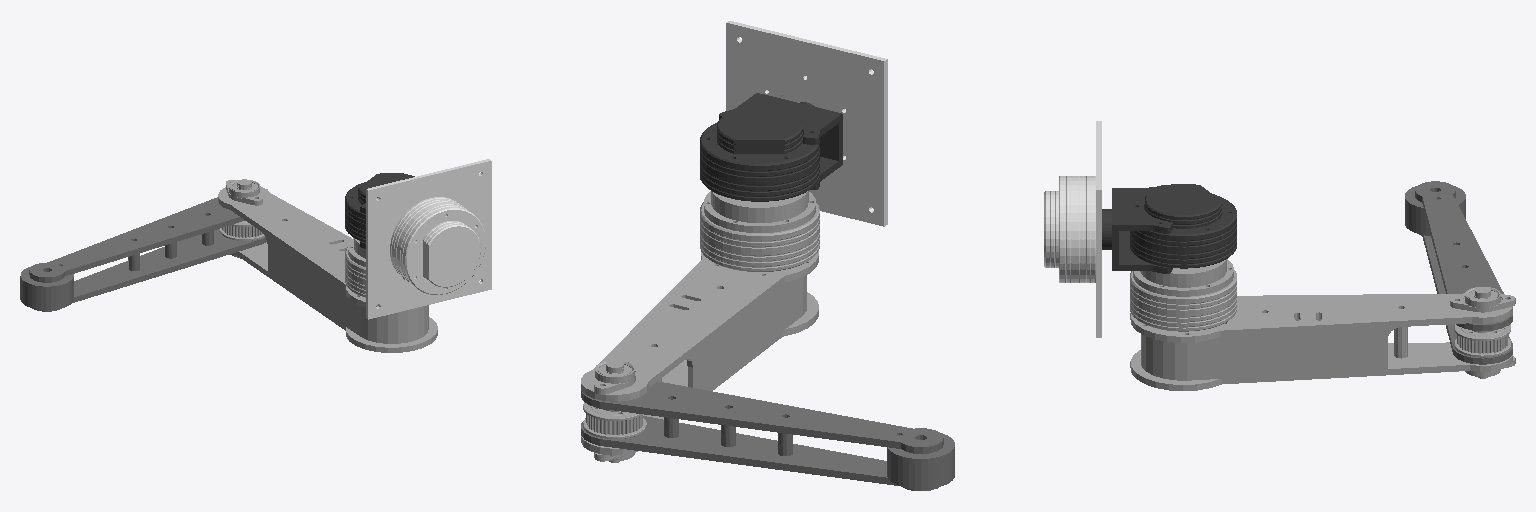
The robot description file, URDF, robot "1.SLDASM":
<?xml version="1.0" encoding="utf-8"?>
<!-- This URDF was automatically created by SolidWorks to URDF Exporter! Originally created by Stephen Brawner (brawner@gmail.com) 
     Commit Version: 1.6.0-4-g7f85cfe  Build Version: 1.6.7995.38578
     For more information, please see http://wiki.ros.org/sw_urdf_exporter -->
<robot
  name="1.SLDASM">
  <link
    name="base_link">
    <inertial>
      <origin
        xyz="0.00017262 -0.012487 1.249E-16"
        rpy="0 0 0" />
      <mass
        value="0.18526" />
      <inertia
        ixx="0.00013682"
        ixy="4.7664E-07"
        ixz="-5.5693E-18"
        iyy="0.00024336"
        iyz="-4.793E-18"
        izz="0.00013608" />
    </inertial>
    <visual>
      <origin
        xyz="0 0 0"
        rpy="0 0 0" />
      <geometry>
        <mesh
          filename="package://1.SLDASM/meshes/base_link.STL" />
      </geometry>
      <material
        name="">
        <color
          rgba="0.9 0.9 0.9 1" />
      </material>
    </visual>
    <collision>
      <origin
        xyz="0 0 0"
        rpy="0 0 0" />
      <geometry>
        <mesh
          filename="package://1.SLDASM/meshes/base_link.STL" />
      </geometry>
    </collision>
  </link>
  <link
    name="link_1">
    <inertial>
      <origin
        xyz="3.7763E-05 0.0551 0.0032112"
        rpy="0 0 0" />
      <mass
        value="0.17061" />
      <inertia
        ixx="7.9318E-05"
        ixy="-3.2101E-07"
        ixz="-2.3832E-07"
        iyy="8.8733E-05"
        iyz="4.1278E-07"
        izz="0.00012572" />
    </inertial>
    <visual>
      <origin
        xyz="0 0 0"
        rpy="0 0 0" />
      <geometry>
        <mesh
          filename="package://1.SLDASM/meshes/link_1.STL" />
      </geometry>
      <material
        name="">
        <color
          rgba="0.3 0.3 0.3 1" />
      </material>
    </visual>
    <collision>
      <origin
        xyz="0 0 0"
        rpy="0 0 0" />
      <geometry>
        <mesh
          filename="package://1.SLDASM/meshes/link_1.STL" />
      </geometry>
    </collision>
  </link>
  <joint
    name="twisting"
    type="revolute">
    <origin
      xyz="0 0 0"
      rpy="0 0 0" />
    <parent
      link="base_link" />
    <child
      link="link_1" />
    <axis
      xyz="0 1 0" />
    <limit
      lower="0"
      upper="0"
      effort="0"
      velocity="0" />
  </joint>
  <link
    name="link_2">
    <inertial>
      <origin
        xyz="0.0055504 0.054568 -0.024846"
        rpy="0 0 0" />
      <mass
        value="0.41837" />
      <inertia
        ixx="0.0011674"
        ixy="7.5815E-05"
        ixz="1.2684E-06"
        iyy="0.00018128"
        iyz="-1.9679E-05"
        izz="0.0012757" />
    </inertial>
    <visual>
      <origin
        xyz="0 0 0"
        rpy="0 0 0" />
      <geometry>
        <mesh
          filename="package://1.SLDASM/meshes/link_2.STL" />
      </geometry>
      <material
        name="">
        <color
          rgba="0.7 0.7 0.7 1" />
      </material>
    </visual>
    <collision>
      <origin
        xyz="0 0 0"
        rpy="0 0 0" />
      <geometry>
        <mesh
          filename="package://1.SLDASM/meshes/link_2.STL" />
      </geometry>
    </collision>
  </link>
  <joint
    name="Revolute1"
    type="revolute">
    <origin
      xyz="-0.0096532 0.063856 -0.04692"
      rpy="0 0 0" />
    <parent
      link="link_1" />
    <child
      link="link_2" />
    <axis
      xyz="0 0 -1" />
    <limit
      lower="0"
      upper="0"
      effort="0"
      velocity="0" />
  </joint>
  <link
    name="link_3">
    <inertial>
      <origin
        xyz="-0.12466 -0.020434 0.0042457"
        rpy="0 0 0" />
      <mass
        value="0.11838" />
      <inertia
        ixx="2.5455E-05"
        ixy="-6.2629E-05"
        ixz="5.2681E-07"
        iyy="0.00039732"
        iyz="8.6362E-08"
        izz="0.00041816" />
    </inertial>
    <visual>
      <origin
        xyz="0 0 0"
        rpy="0 0 0" />
      <geometry>
        <mesh
          filename="package://1.SLDASM/meshes/link_3.STL" />
      </geometry>
      <material
        name="">
        <color
          rgba="0.5 0.5 0.5 1" />
      </material>
    </visual>
    <collision>
      <origin
        xyz="0 0 0"
        rpy="0 0 0" />
      <geometry>
        <mesh
          filename="package://1.SLDASM/meshes/link_3.STL" />
      </geometry>
    </collision>
  </link>
  <joint
    name="Revolute2"
    type="revolute">
    <origin
      xyz="-0.007 0.2195 -0.04808"
      rpy="0 0 0" />
    <parent
      link="link_2" />
    <child
      link="link_3" />
    <axis
      xyz="0 0 -1" />
    <limit
      lower="0"
      upper="0"
      effort="0"
      velocity="0" />
  </joint>
</robot>

--- Render facts (derived) ---
3 views of the same robot in one strip: view 1: azimuth 30°, elevation 25°; view 2: azimuth 150°, elevation 25°; view 3: azimuth 270°, elevation 25° (orthographic).
Robot: 1.SLDASM — 4 links, 3 joints (3 revolute); root link base_link; default pose: all joints at 0.
Links seen in each view (by area): view 1: base_link, link_2, link_3, link_1; view 2: link_2, link_3, base_link, link_1; view 3: link_2, link_1, link_3, base_link.
Boxes of the visible links, <box> form: base_link: <box>366,159,491,319</box>; link_2: <box>218,179,437,352</box>; link_3: <box>20,197,266,311</box>; link_1: <box>345,173,414,248</box>; link_2: <box>581,191,819,462</box>; link_3: <box>581,381,954,490</box>; base_link: <box>726,21,887,226</box>; link_1: <box>700,93,842,201</box>; link_2: <box>1130,259,1515,390</box>; link_1: <box>1102,184,1236,273</box>; link_3: <box>1405,181,1512,364</box>; base_link: <box>1044,121,1101,337</box>.
Size in the robot's own frame: 0.3114 by 0.3452 by 0.1867 metres.
Meshes: 4 distinct files referenced, 4 mesh visuals loaded (4 binary STL).
